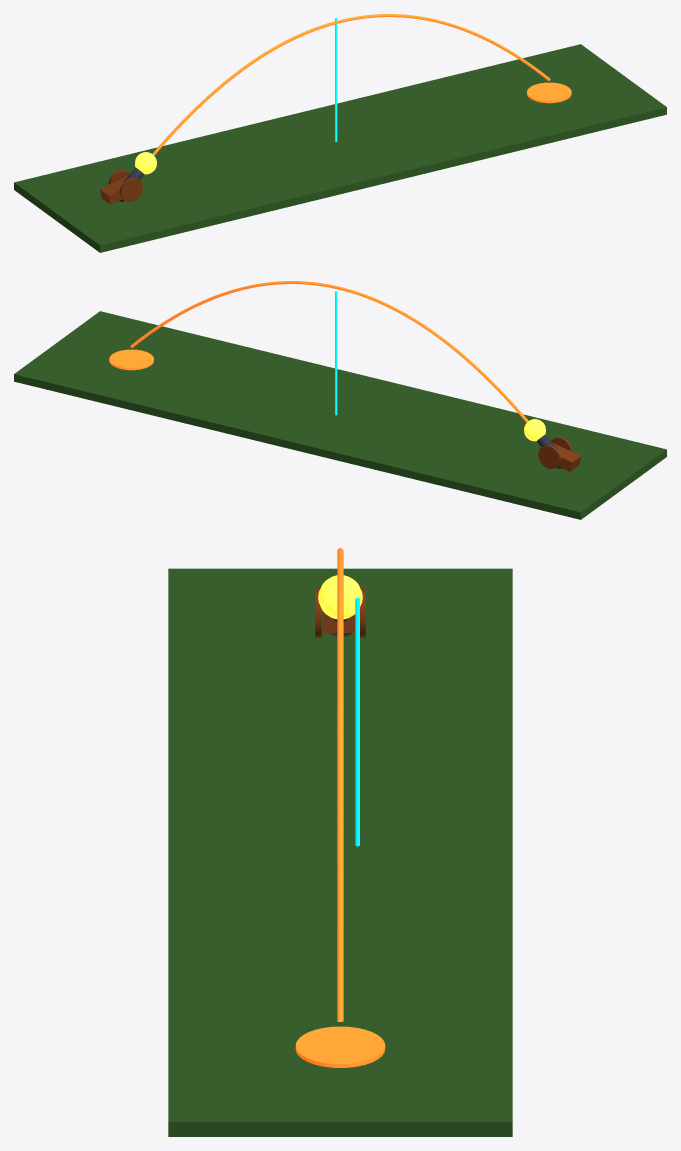
Rendered from bai6_nem_xien.glb.
3 renders of one model, top to bottom at view 1: azimuth 30°, elevation 25°; view 2: azimuth 150°, elevation 25°; view 3: azimuth 270°, elevation 25°, orthographic. The views are drawn at different scales.
Visible parts, largest first — view 1: Khối Lập Phương, Cannon_Parabola, Hình Trụ, Hình Trụ.002, Khối Lập Phương.001, Hình Cầu.001, Hình Trụ.001; view 2: Khối Lập Phương, Cannon_Parabola, Hình Trụ, Hình Trụ.003, Khối Lập Phương.001, Hình Cầu.001, Hình Trụ.001; view 3: Khối Lập Phương, Cannon_Parabola, Hình Trụ, Hình Cầu.001, Hình Trụ.001.
Part boxes in pixels (bbox=[...]): Khối Lập Phương: bbox=[14, 44, 666, 252]; Cannon_Parabola: bbox=[152, 14, 550, 155]; Hình Trụ: bbox=[527, 82, 571, 103]; Hình Trụ.002: bbox=[119, 178, 142, 201]; Khối Lập Phương.001: bbox=[99, 176, 140, 204]; Hình Cầu.001: bbox=[135, 152, 156, 174]; Hình Trụ.001: bbox=[335, 17, 337, 141]; Khối Lập Phương: bbox=[14, 311, 666, 519]; Cannon_Parabola: bbox=[130, 281, 528, 422]; Hình Trụ: bbox=[109, 349, 153, 370]; Hình Trụ.003: bbox=[538, 445, 561, 468]; Khối Lập Phương.001: bbox=[540, 443, 581, 471]; Hình Cầu.001: bbox=[524, 419, 545, 441]; Hình Trụ.001: bbox=[335, 291, 337, 415]; Khối Lập Phương: bbox=[168, 568, 512, 1136]; Cannon_Parabola: bbox=[337, 548, 343, 1021]; Hình Trụ: bbox=[295, 1026, 385, 1067]; Hình Cầu.001: bbox=[318, 575, 362, 619]; Hình Trụ.001: bbox=[355, 597, 359, 846].
Size of the model in its own units: 19 by 4.23 by 5.
